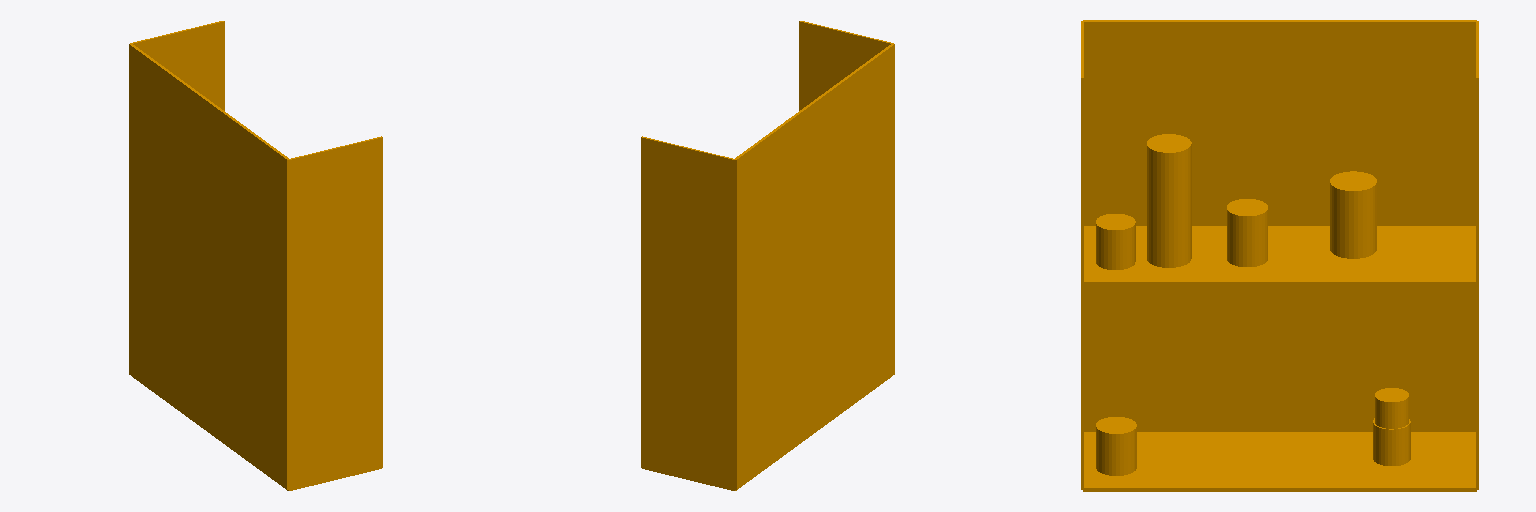
The robot description file, URDF, robot "syn_can_cabinet_1359":
<?xml version="1.0" ?>
<robot name="syn_can_cabinet_1359">
    <link concave="yes" name="base_link">
        <inertial>
            <origin rpy="0 0 0" xyz="0 0 0"/>
            <mass value="0.0"/>
            <inertia ixx="1e-08" ixy="0" ixz="0" iyy="1e-08" iyz="0" izz="1e-08"/>
        </inertial>
        <visual>
            <origin xyz="0 0 0" rpy="0 0 0" />
            <geometry>
                <mesh filename="syn_can_cabinet_1359.obj" scale="1.000000 1.000000 1.000000"/>
            </geometry>         
        </visual>

        <collision concave="yes">
            <origin xyz="0 0 0" rpy="0 0 0"/>
            <geometry>
                <mesh filename="syn_can_cabinet_1359.obj" scale="1.000000 1.000000 1.000000"/>
            </geometry>
        </collision>
    </link>
</robot>
    

--- Facts derived from the render (not from the file) ---
Views: 3 orthographic renders of the robot side by side, from view 1: azimuth 30°, elevation 25°; view 2: azimuth 150°, elevation 25°; view 3: azimuth 270°, elevation 25°.
Model syn_can_cabinet_1359 with 1 links and 0 joints (none), rooted at base_link, posed all joints at 0.
Links seen in each view (by area): view 1: base_link; view 2: base_link; view 3: base_link.
Boxes of the visible links, x1=… form: base_link: x1=129, y1=21, x2=382, y2=490; base_link: x1=641, y1=21, x2=894, y2=490; base_link: x1=1081, y1=20, x2=1478, y2=491.
Bounding box of the posed robot: 0.1692 × 0.4924 × 0.5651 m (x, y, z).
Meshes: 1 distinct files referenced, 1 mesh visuals loaded (1 OBJ).
